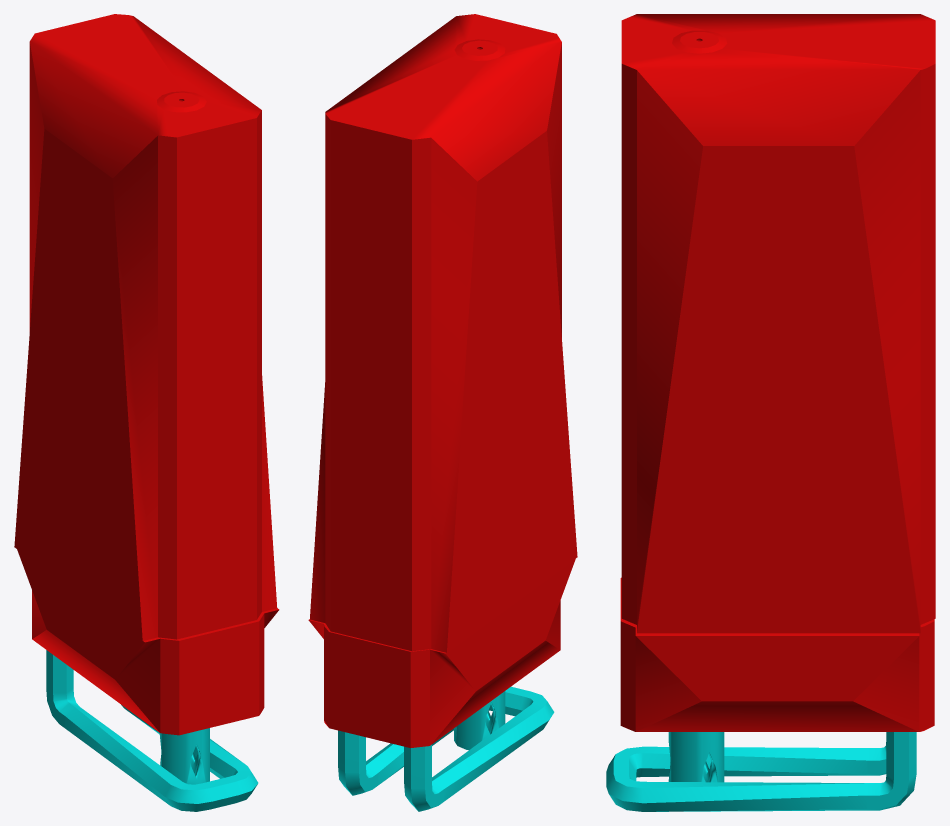
Rendered from Joe_Weapon_PrimaryWeaponMesh.fbx.
3 renders of one model, left to right at view 1: azimuth 30°, elevation 25°; view 2: azimuth 150°, elevation 25°; view 3: azimuth 270°, elevation 25°, orthographic. The views are drawn at different scales.
Parts seen in each view (by area): view 1: HandGun_Body_R1; view 2: HandGun_Body_R1; view 3: HandGun_Body_R1.
Boxes of the visible parts, bbox=[...] form: HandGun_Body_R1: bbox=[14, 14, 279, 811]; HandGun_Body_R1: bbox=[308, 14, 577, 811]; HandGun_Body_R1: bbox=[606, 14, 935, 811].
Size of the model in its own units: 8.71 by 41.58 by 16.5.
